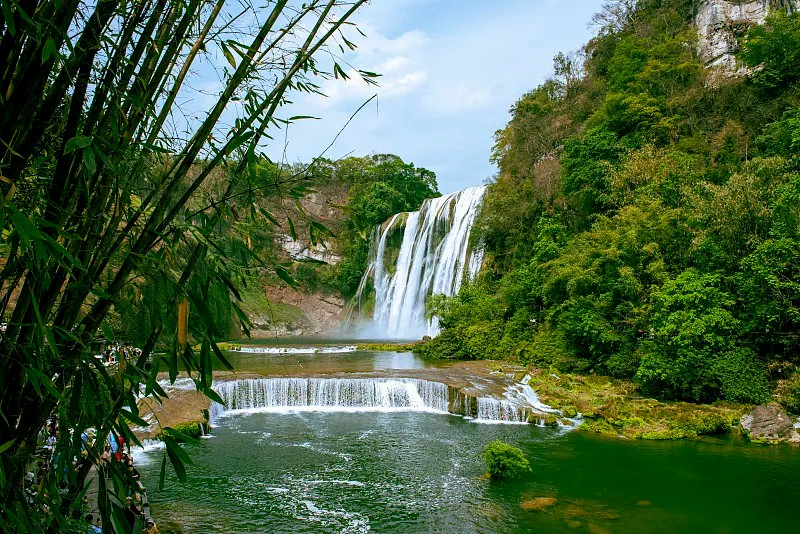Huangguoshu: (362, 186, 483, 341)
